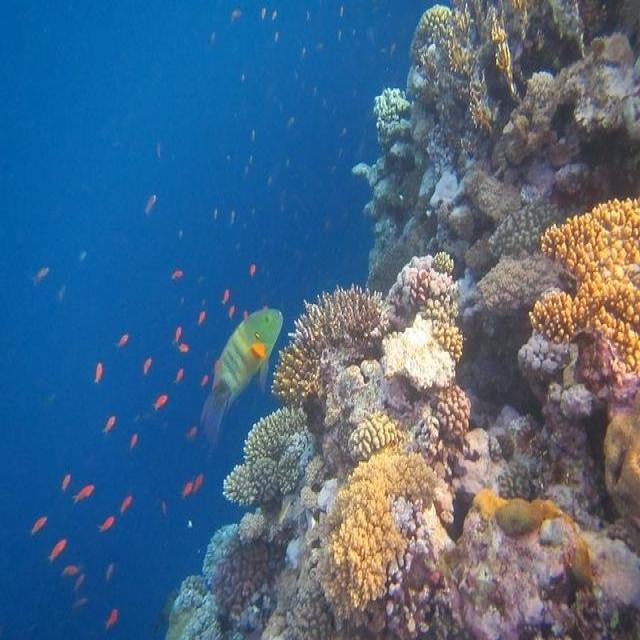fish: (200, 309, 284, 450), (74, 485, 94, 503), (49, 539, 66, 559), (32, 516, 48, 534), (152, 396, 167, 411), (107, 609, 117, 630), (114, 334, 128, 349), (192, 474, 203, 493), (102, 416, 115, 432), (100, 518, 114, 531), (61, 473, 71, 491), (62, 564, 80, 574), (143, 358, 153, 375), (181, 483, 193, 496), (174, 369, 184, 384), (95, 362, 102, 383), (122, 496, 131, 512), (221, 289, 230, 304), (171, 270, 183, 280), (130, 432, 138, 447), (228, 305, 235, 321), (199, 311, 206, 326), (176, 326, 182, 343), (179, 344, 189, 352), (250, 264, 255, 277)
reefs: (527, 197, 639, 403), (319, 442, 437, 633), (270, 284, 394, 401), (225, 404, 318, 507), (481, 252, 573, 314), (215, 540, 271, 612), (489, 201, 561, 257), (349, 412, 401, 460), (437, 386, 471, 438)
